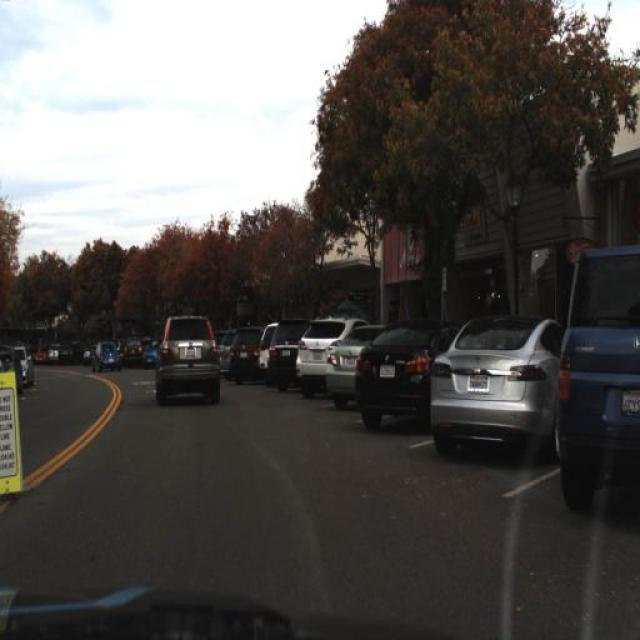car: (558, 246, 640, 526), (425, 299, 556, 469), (352, 312, 437, 436), (150, 306, 224, 409), (324, 314, 384, 410), (293, 312, 333, 402), (268, 312, 306, 390), (90, 335, 126, 377), (256, 316, 275, 385), (10, 340, 36, 390), (1, 346, 20, 396)
